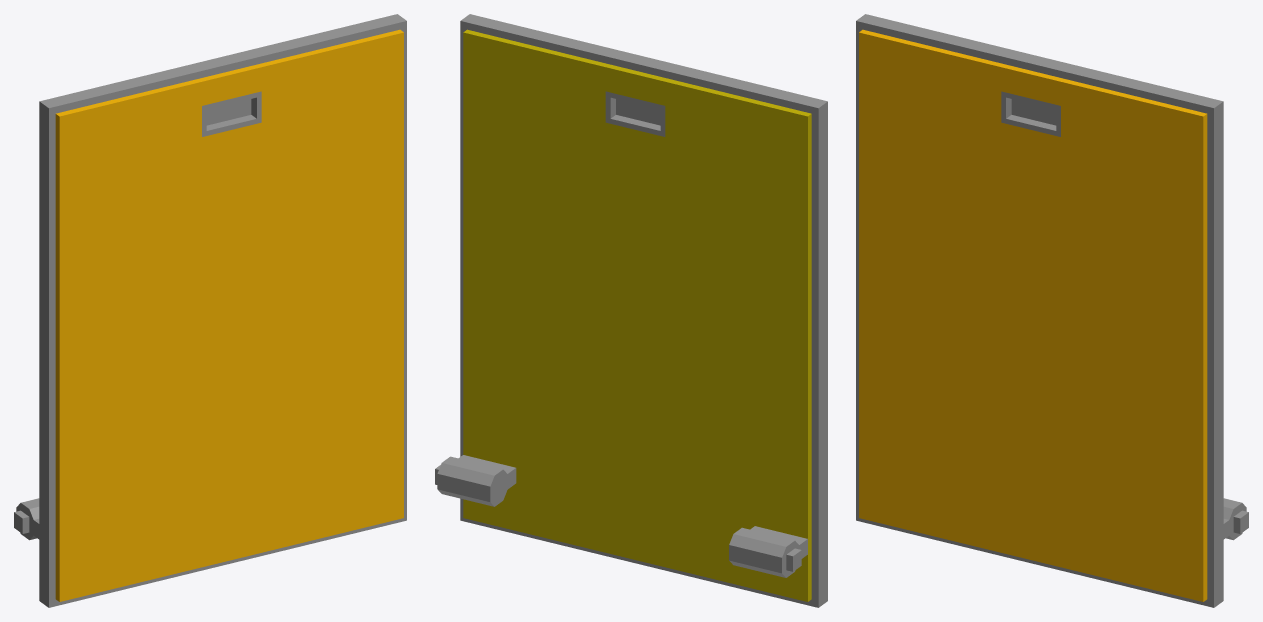
Rendered from door_manual_flush_outswing_3x3_dynamic.dae.
3 views of the same model, side by side, from view 1: azimuth 30°, elevation 25°; view 2: azimuth 150°, elevation 25°; view 3: azimuth 330°, elevation 25° (orthographic).
Parts seen in each view (by area): view 1: Cube; view 2: Cube; view 3: Cube.
Part boxes in pixels (box(x1,y1,x2,y2)): Cube: box(14, 14, 406, 607); Cube: box(435, 14, 827, 607); Cube: box(856, 14, 1248, 607).
Bounding box in the file's own units: 0.75 × 0.1562 × 1.
